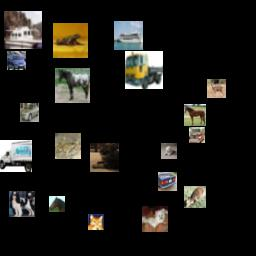automobile: (7, 51, 26, 70), (20, 103, 39, 122), (158, 172, 177, 191)
cat: (90, 143, 119, 172), (88, 214, 104, 230)
deer: (184, 186, 206, 208), (207, 79, 226, 98)
dog: (9, 191, 35, 217), (142, 206, 168, 232), (161, 143, 177, 159)
frog: (53, 23, 88, 58), (55, 133, 81, 159)
ship: (4, 11, 42, 49), (114, 21, 143, 50)
truck: (125, 51, 163, 89), (0, 140, 32, 172), (189, 127, 205, 143)
